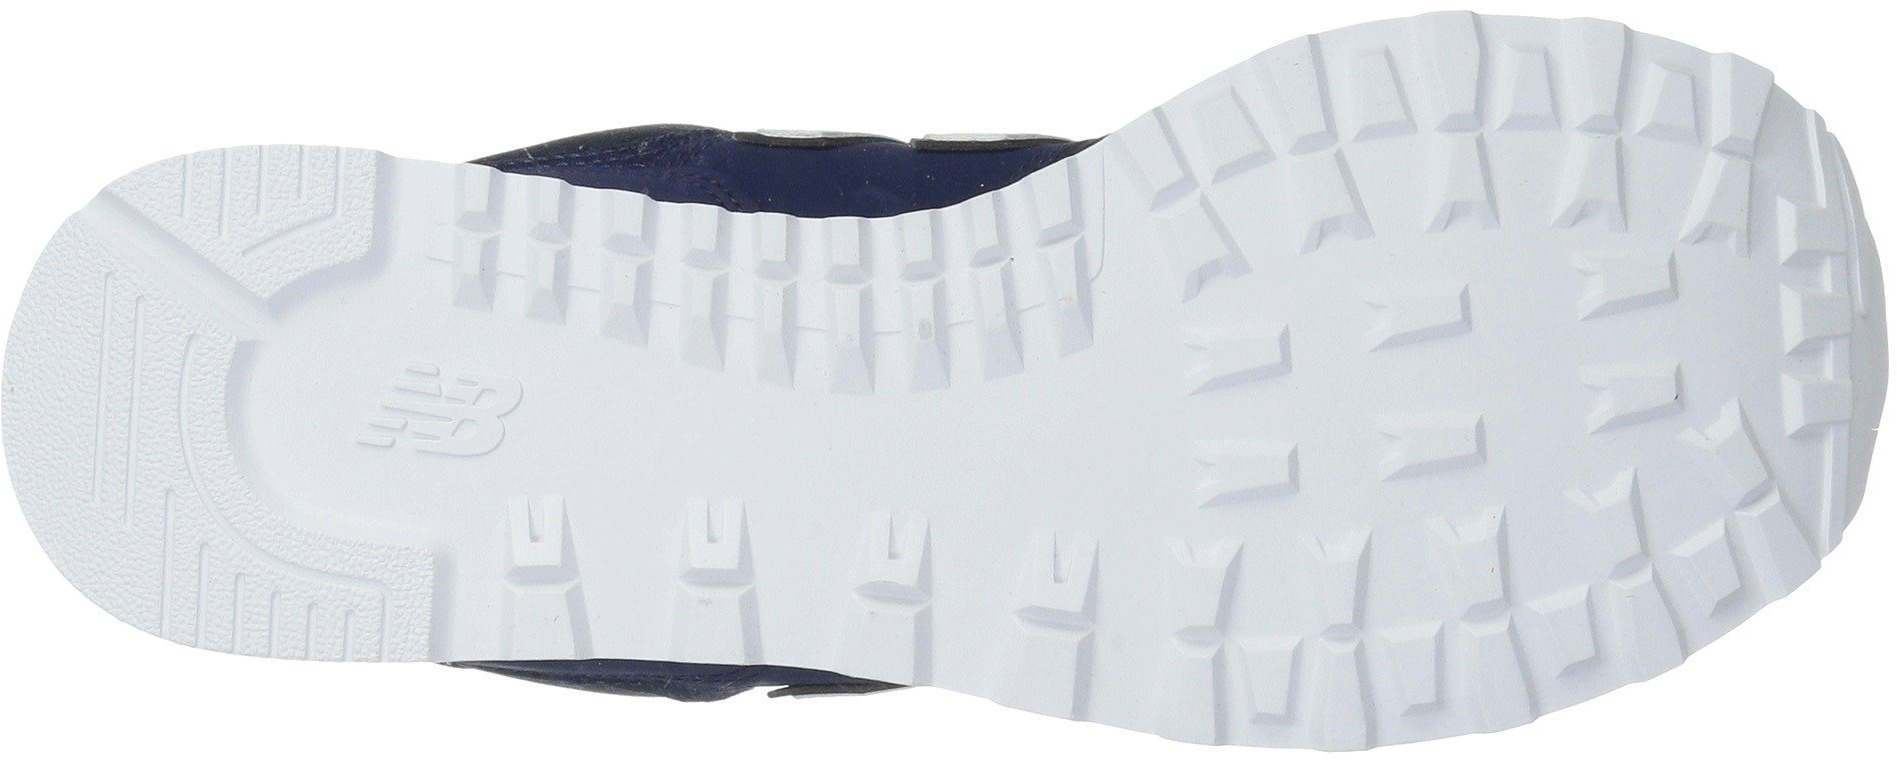exclude: (428, 660, 942, 727)
line: (24, 324, 226, 530), (261, 539, 392, 666)
quad: (1161, 388, 1536, 730), (1520, 144, 1852, 474), (814, 207, 1048, 437), (581, 191, 801, 420), (795, 501, 991, 687)
